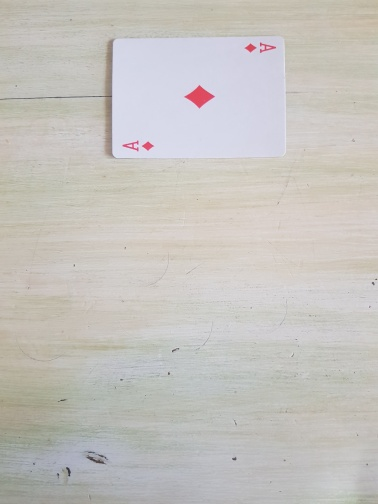ace: (110, 34, 286, 160)
